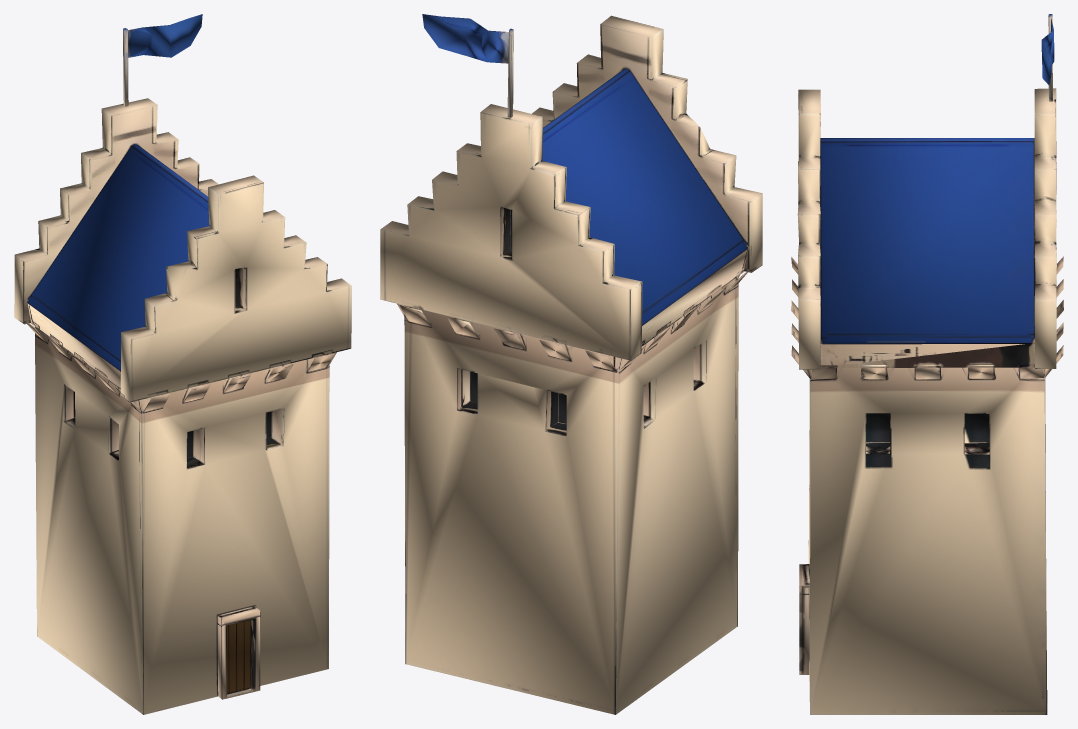
Rendered from meshy-b-550.glb.
3 renders of one model, left to right at view 1: azimuth 30°, elevation 25°; view 2: azimuth 150°, elevation 25°; view 3: azimuth 270°, elevation 25°, orthographic. The views are drawn at different scales.
Bounding box in the file's own units: 0.3973 × 1 × 0.3811.
1 material, 1 textured.
